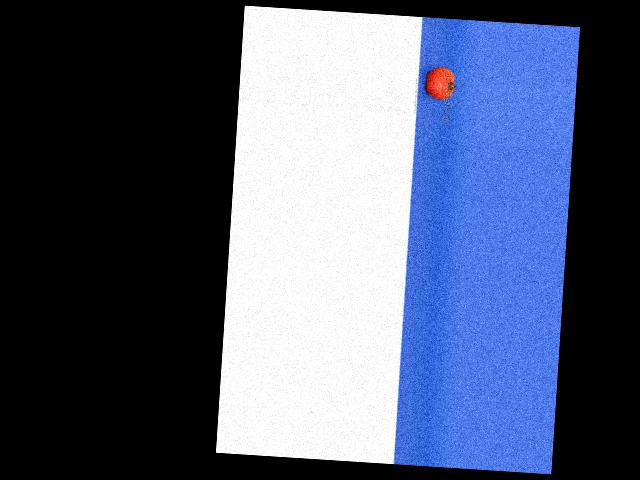tomato: (425, 65, 455, 99)
